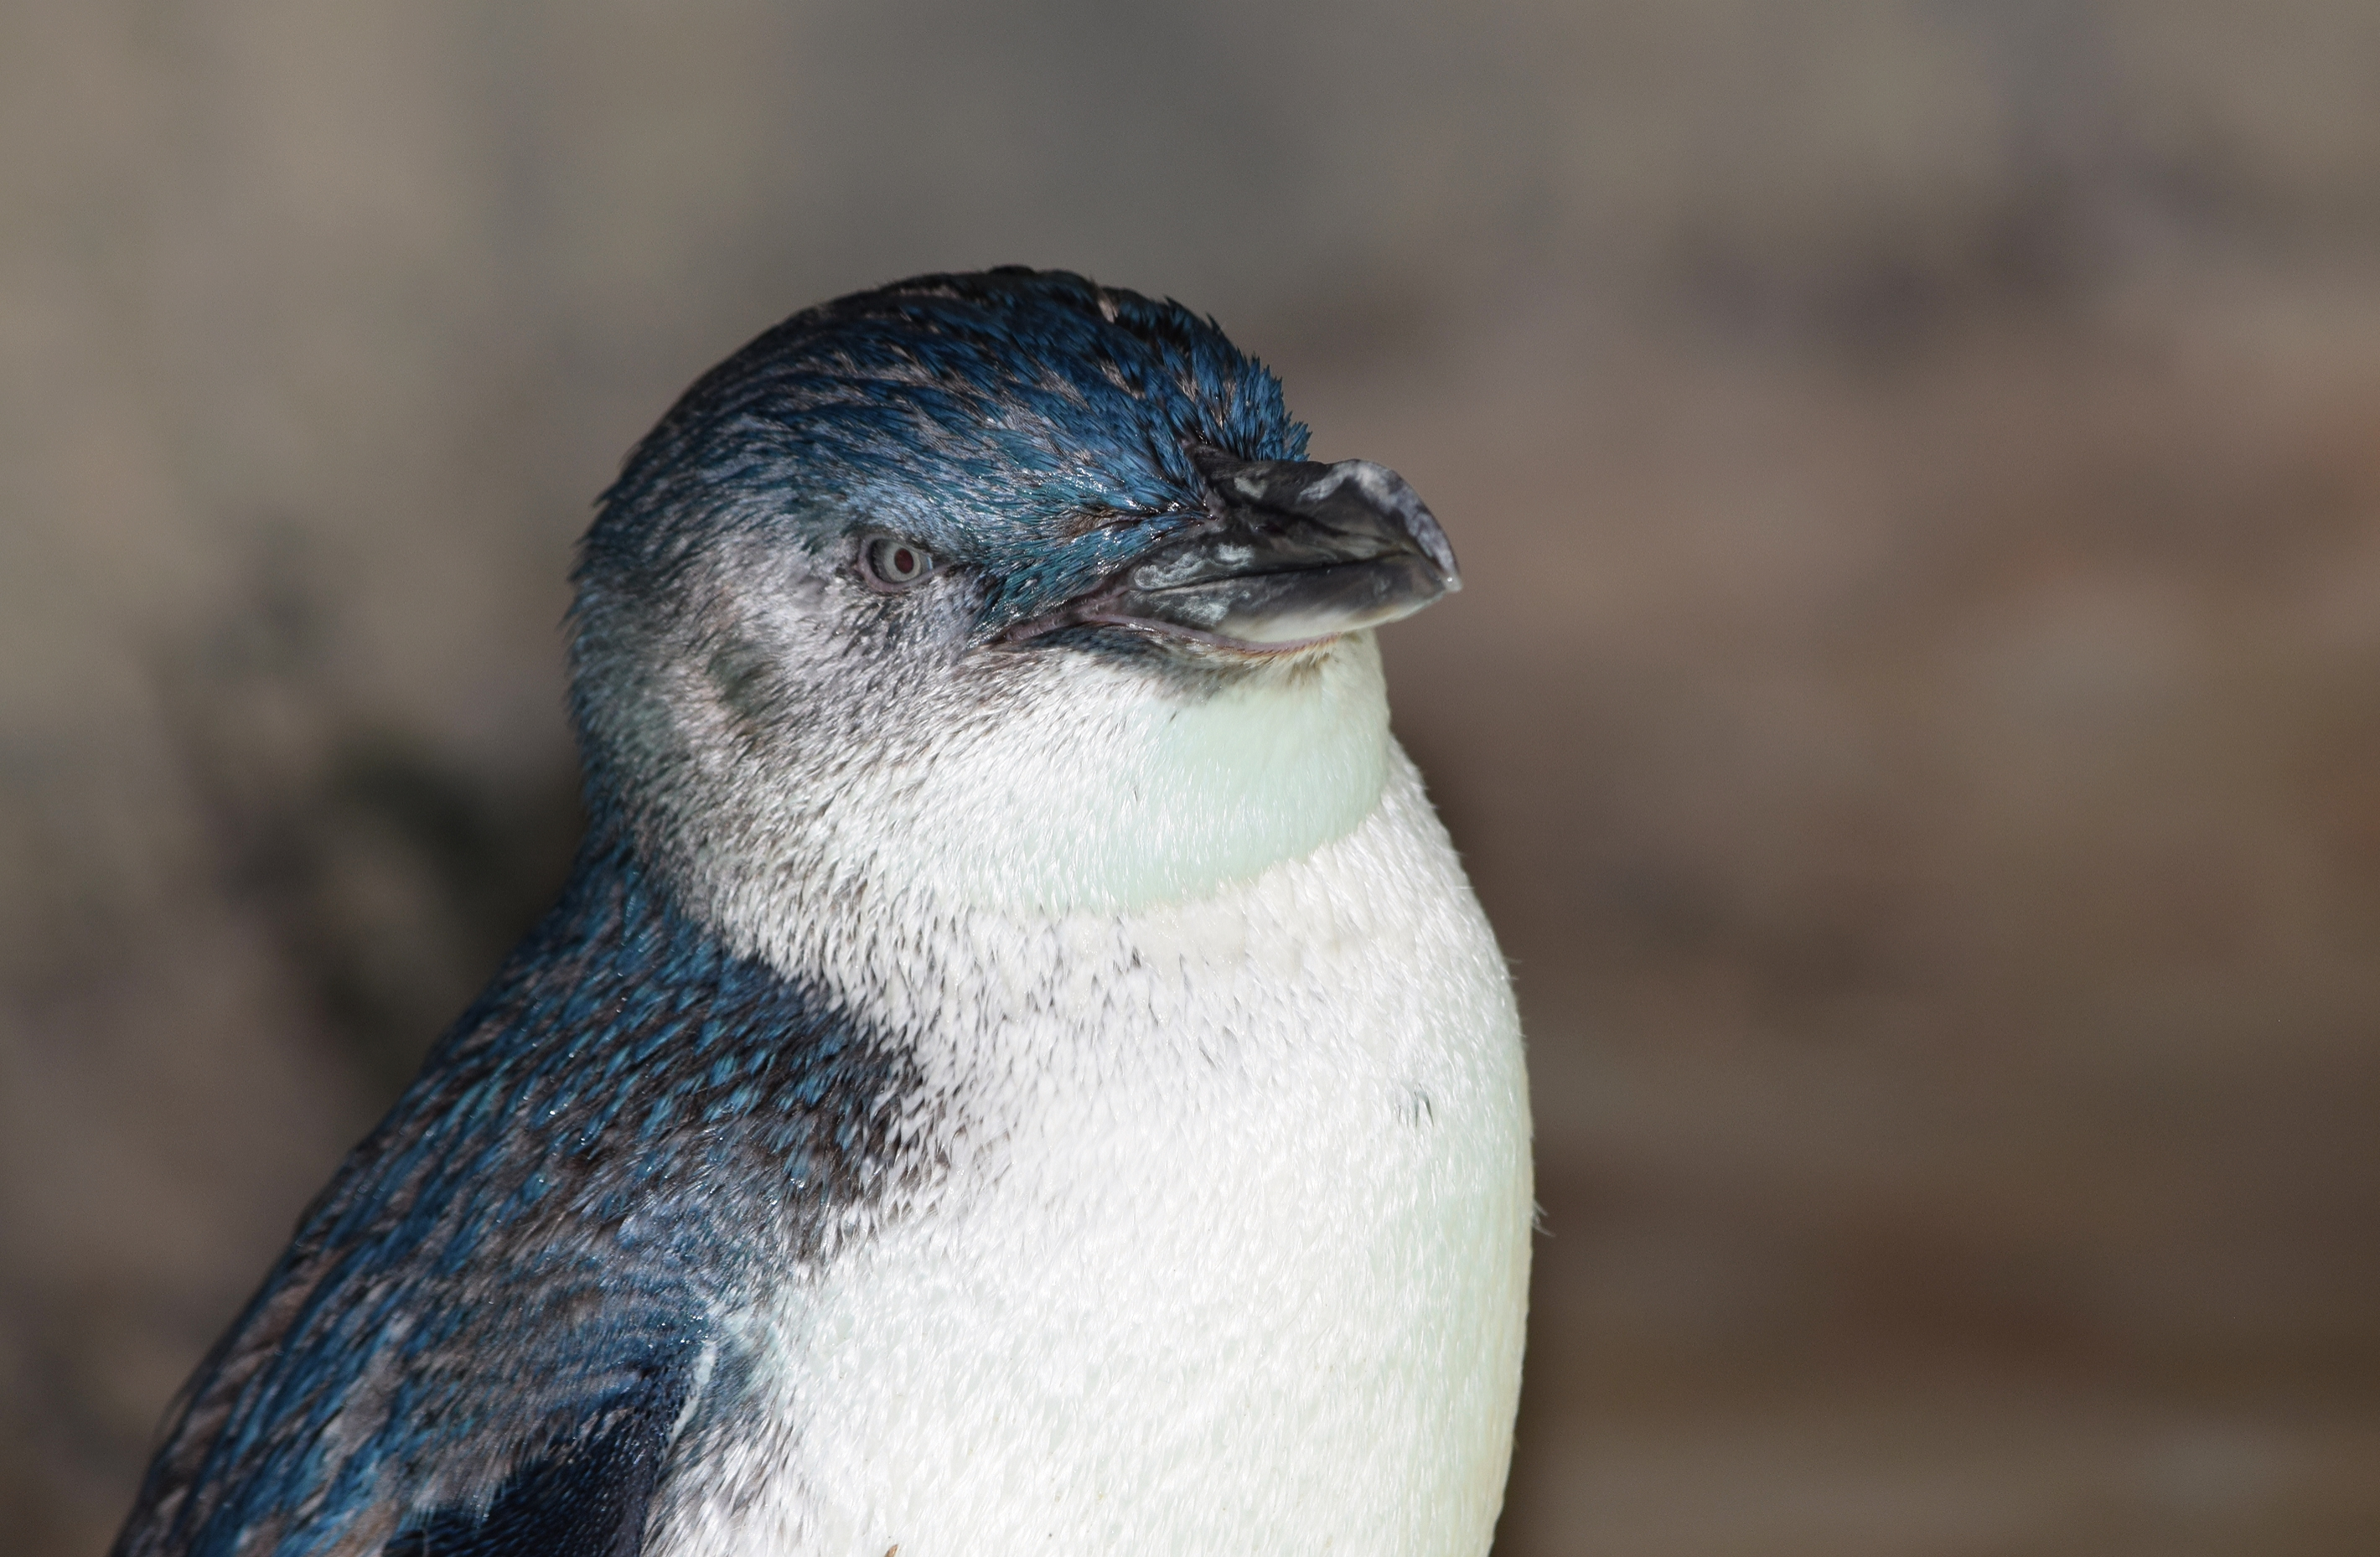penguin: (106, 262, 1524, 1557)
